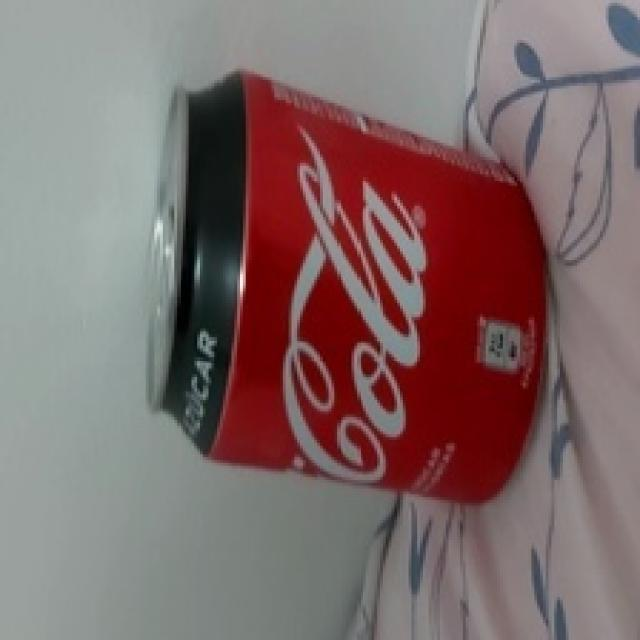recyclable: (139, 66, 552, 512)
